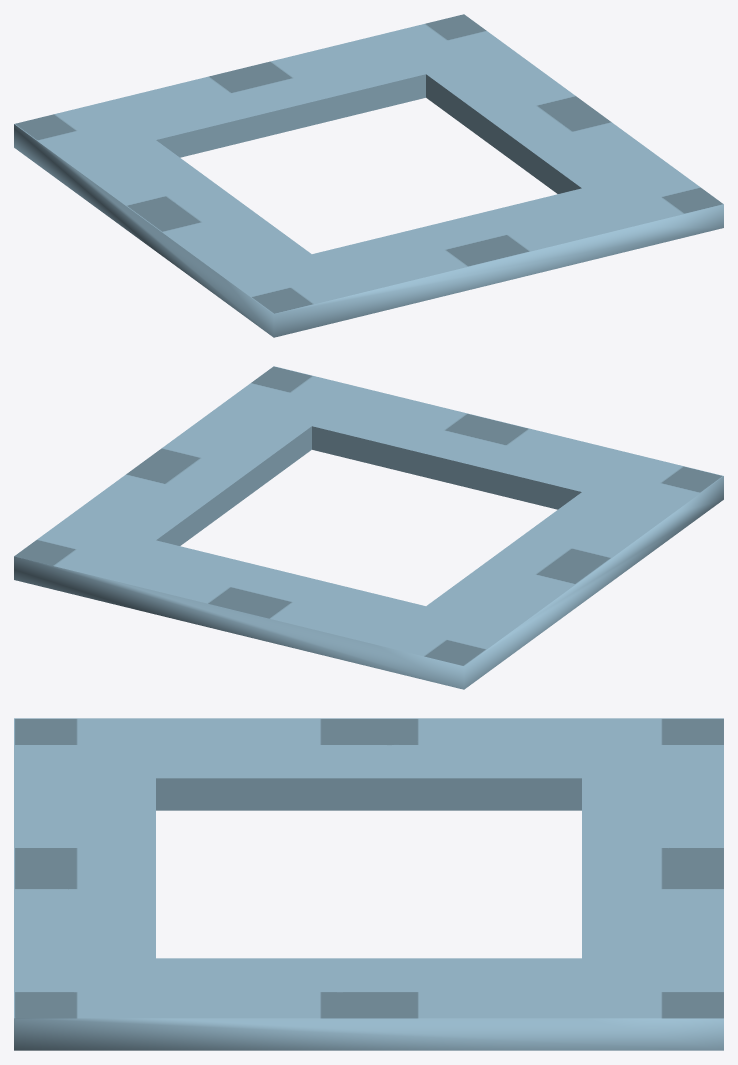
File: BigPoint3.fbx
3 renders of one model, top to bottom at view 1: azimuth 30°, elevation 25°; view 2: azimuth 150°, elevation 25°; view 3: azimuth 270°, elevation 25°, orthographic. The views are drawn at different scales.
Parts seen in each view (by area): view 1: Model; view 2: Model; view 3: Model.
Part boxes in pixels (x1=…): Model: x1=14, y1=14, x2=723, y2=337; Model: x1=14, y1=366, x2=723, y2=689; Model: x1=14, y1=718, x2=723, y2=1050.
Size of what is drawn, in the model's own units: 2000 by 100 by 2000.
Materials: 1 (1 with a texture image).
